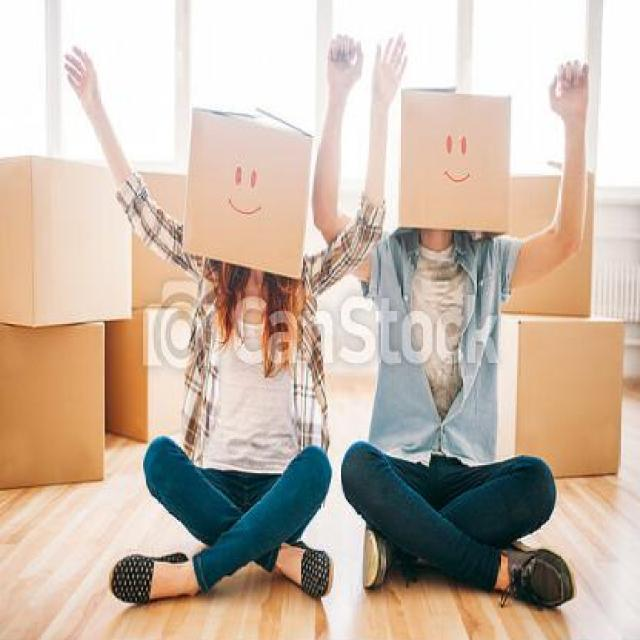box: (179, 93, 323, 284), (496, 315, 636, 492), (0, 148, 134, 319), (397, 76, 518, 246), (0, 328, 109, 497), (514, 172, 597, 319), (109, 307, 191, 455), (126, 157, 191, 306)
